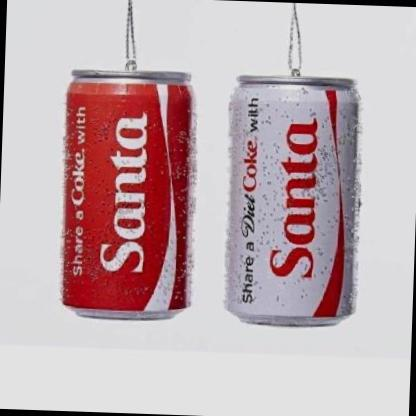alumunium_can: (56, 63, 202, 324), (220, 70, 365, 332)
